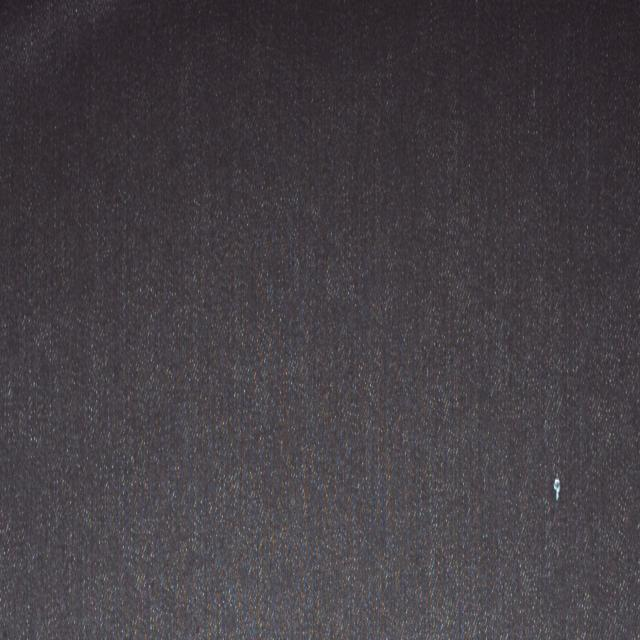Knot: (554, 478, 563, 502)
